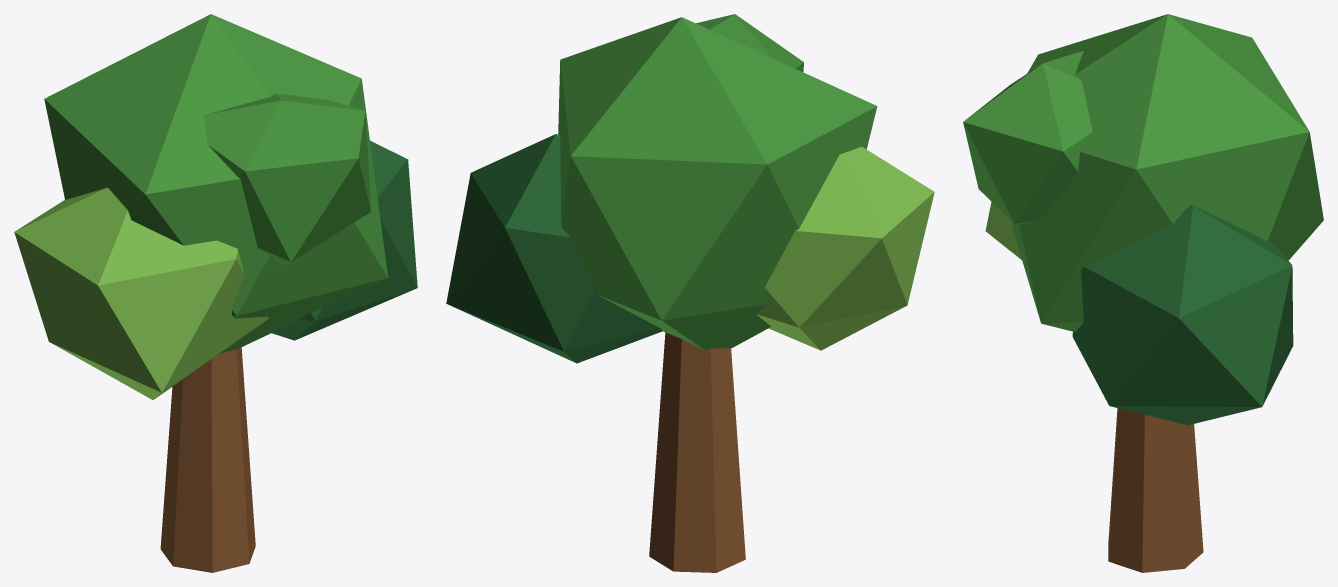
File: OakTree.glb
3 renders of one model, left to right at view 1: azimuth 30°, elevation 25°; view 2: azimuth 150°, elevation 25°; view 3: azimuth 270°, elevation 25°, orthographic. The views are drawn at different scales.
Visible parts, largest first — view 1: OakTree; view 2: OakTree; view 3: OakTree.
Boxes of the visible parts, x1,y1,x2,y2 form: OakTree: (14, 14, 417, 572); OakTree: (446, 14, 934, 572); OakTree: (963, 14, 1323, 572).
Bounding box in the file's own units: 2.45 × 3.11 × 1.87.
Materials: 1 (1 with a texture image).
